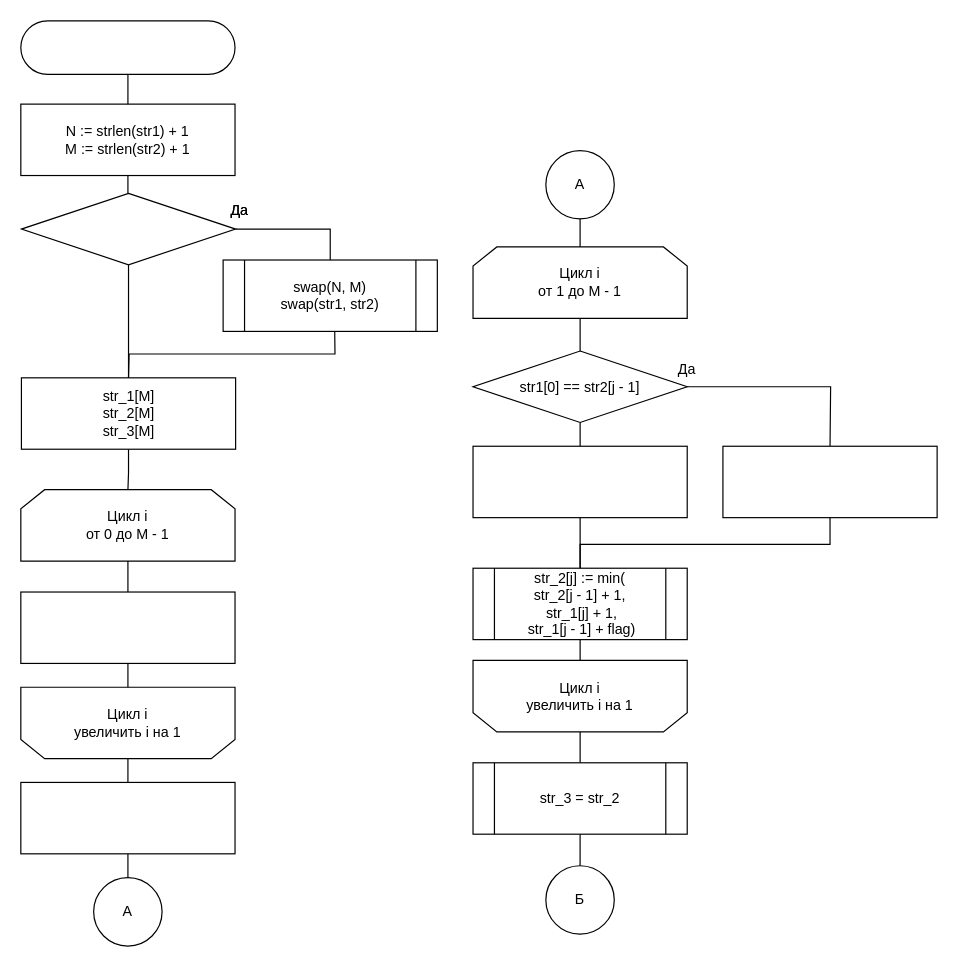
This 958x967 diagram has some shape labels left out. Each missing label, with the centre of its shape:
"flag := 0" goes at point 829,481.
"flag := 1" goes at point 579,481.
"N < M" goes at point 128,228.
"str_1[i] := i" goes at point 127,627.
"str_2[0] := i" goes at point 127,817.
"Начало" goes at point 127,47.
